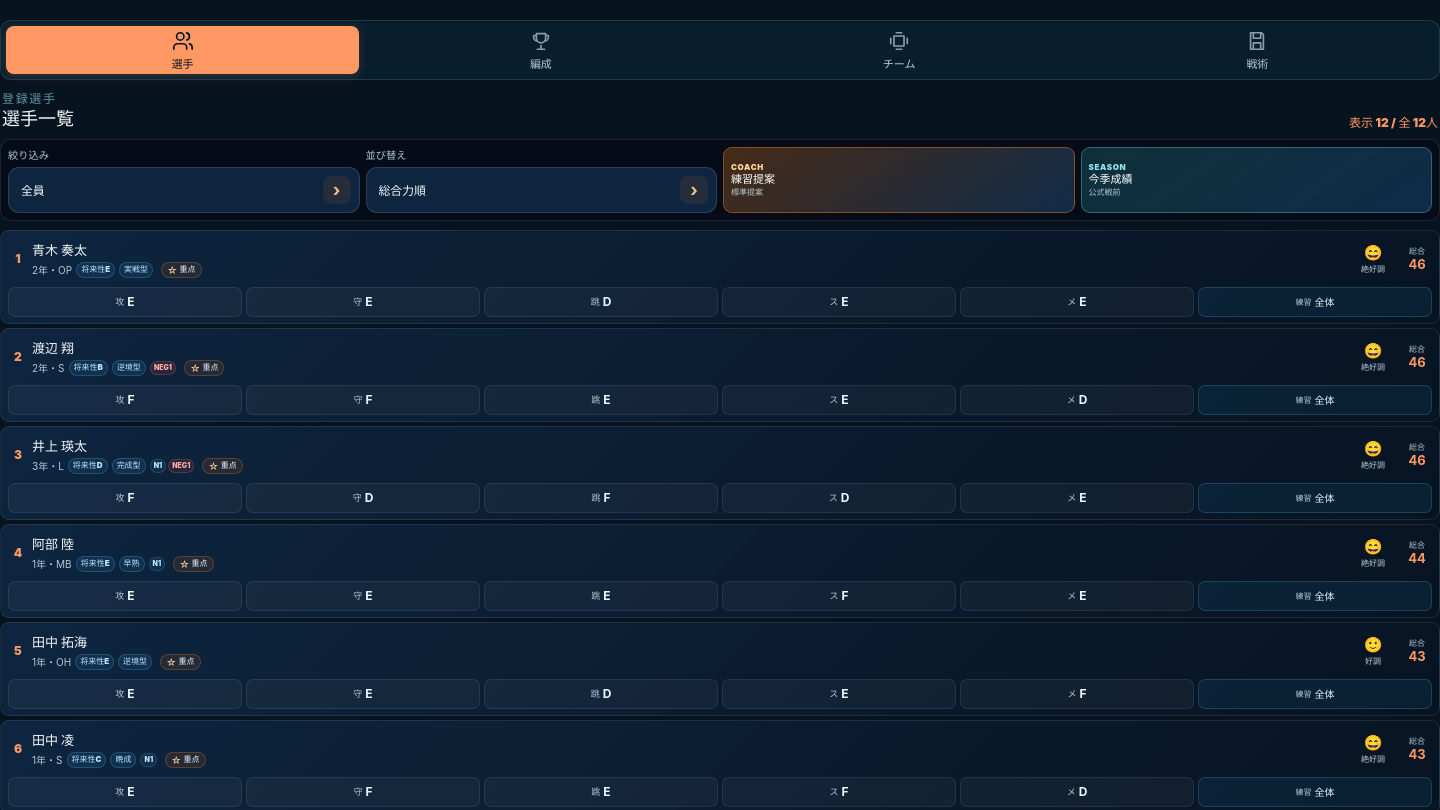
Test: PlayerHubScreen › splits player detail into ability, growth, and personality views
Expected: the heading "選手一覧" is shown, top-left (2, 108), bottom-right (74, 130)
What coordinates should you click on to do the following:
click the button "田中 拓海"
I would click on:
 (60, 641)
Its box is top-left (26, 627), bottom-right (93, 655).
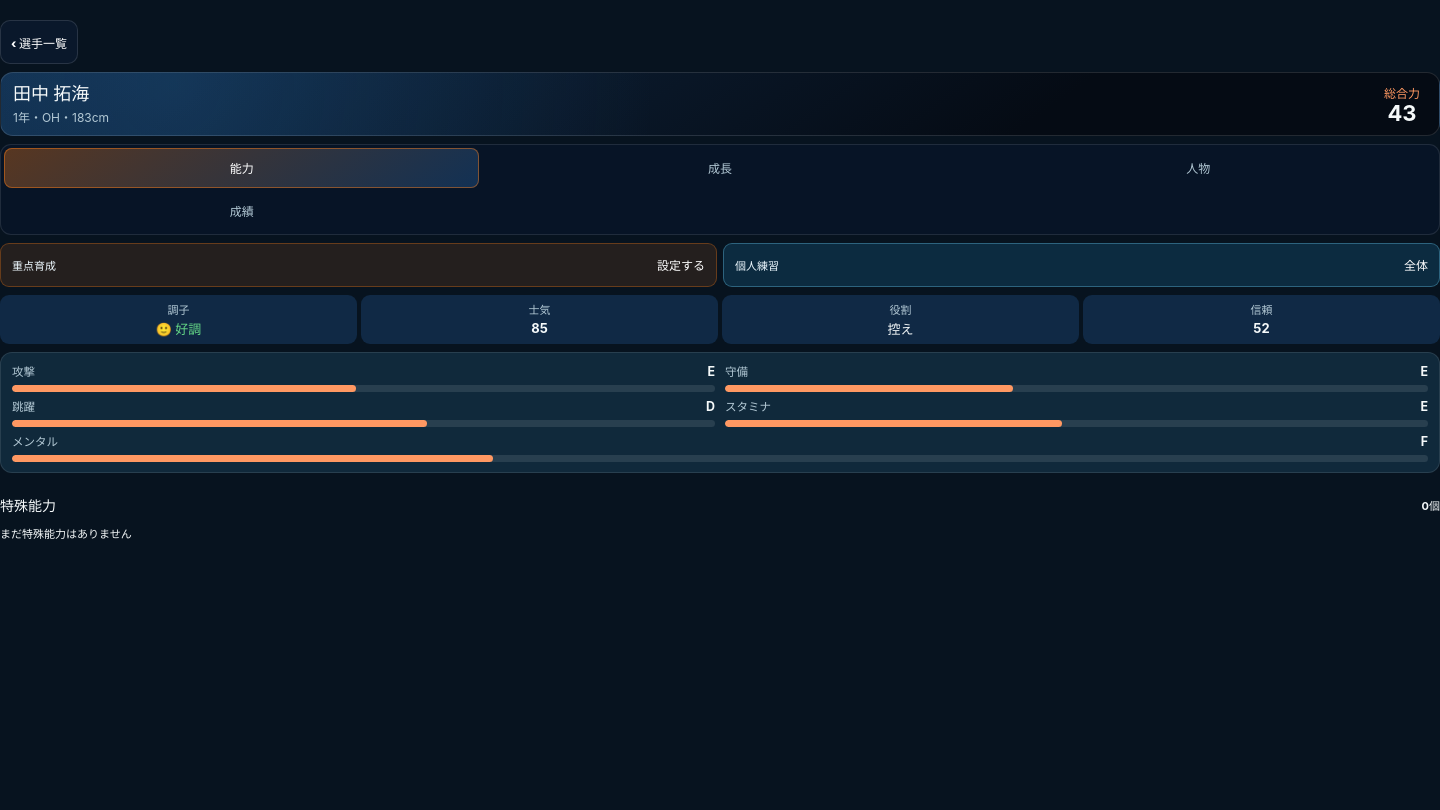
Expected: the text "総合力" is shown, top-left (1384, 86), bottom-right (1420, 101)
Expected: the element named "選手能力" is shown, top-left (0, 352), bottom-right (1439, 473)
What coordinates should you click on to do the following:
click the button "成長"
I would click on:
 (720, 168)
Its box is top-left (482, 148), bottom-right (958, 188).
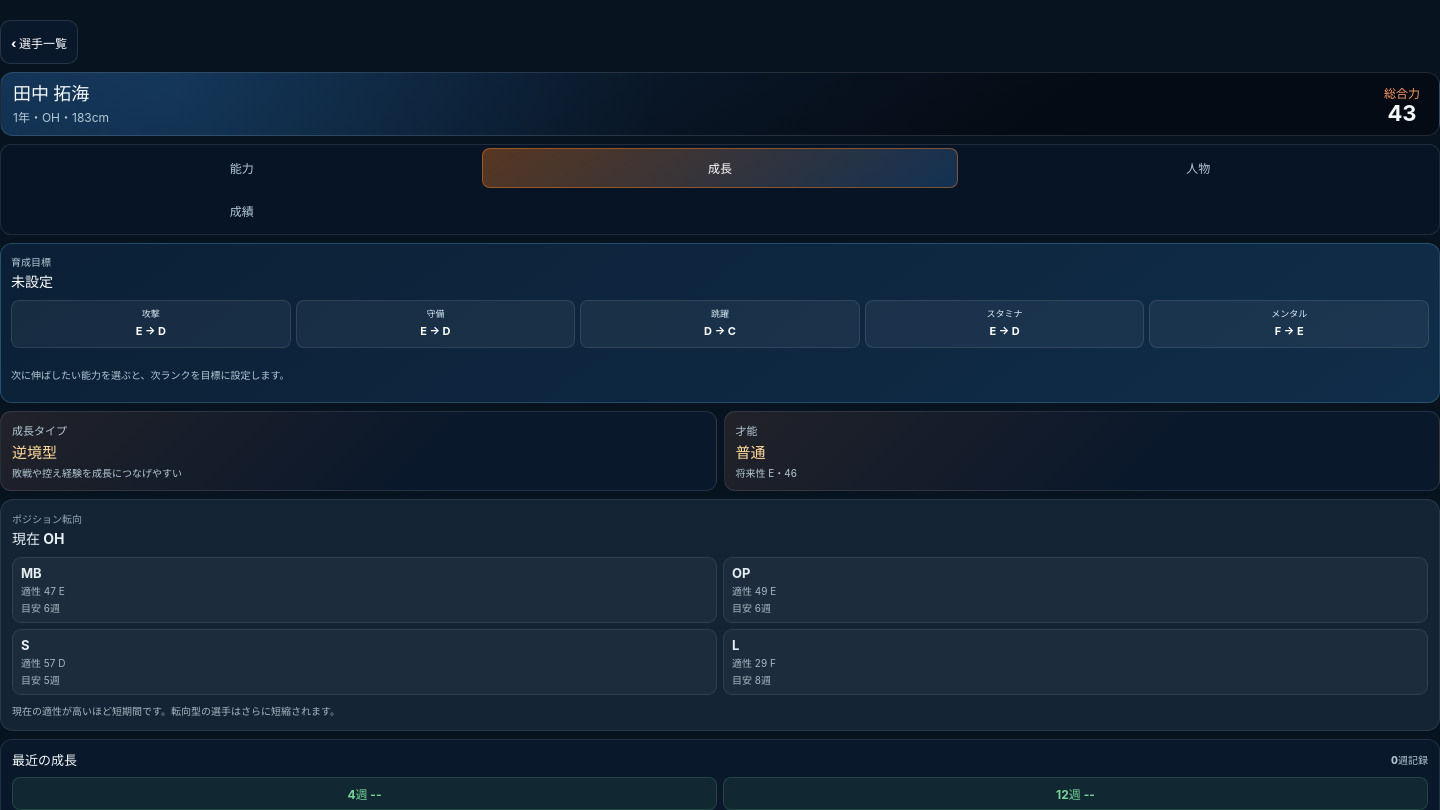
Expected: the text "成長タイプ" is shown, top-left (12, 424), bottom-right (67, 438)
Expected: the text "逆境型" is shown, top-left (12, 443), bottom-right (57, 462)
Expected: the text "才能" is shown, top-left (736, 424), bottom-right (758, 438)
What coordinates should you click on to do the following:
click the button "人物"
I would click on:
 (1198, 168)
Its box is top-left (961, 148), bottom-right (1436, 188).
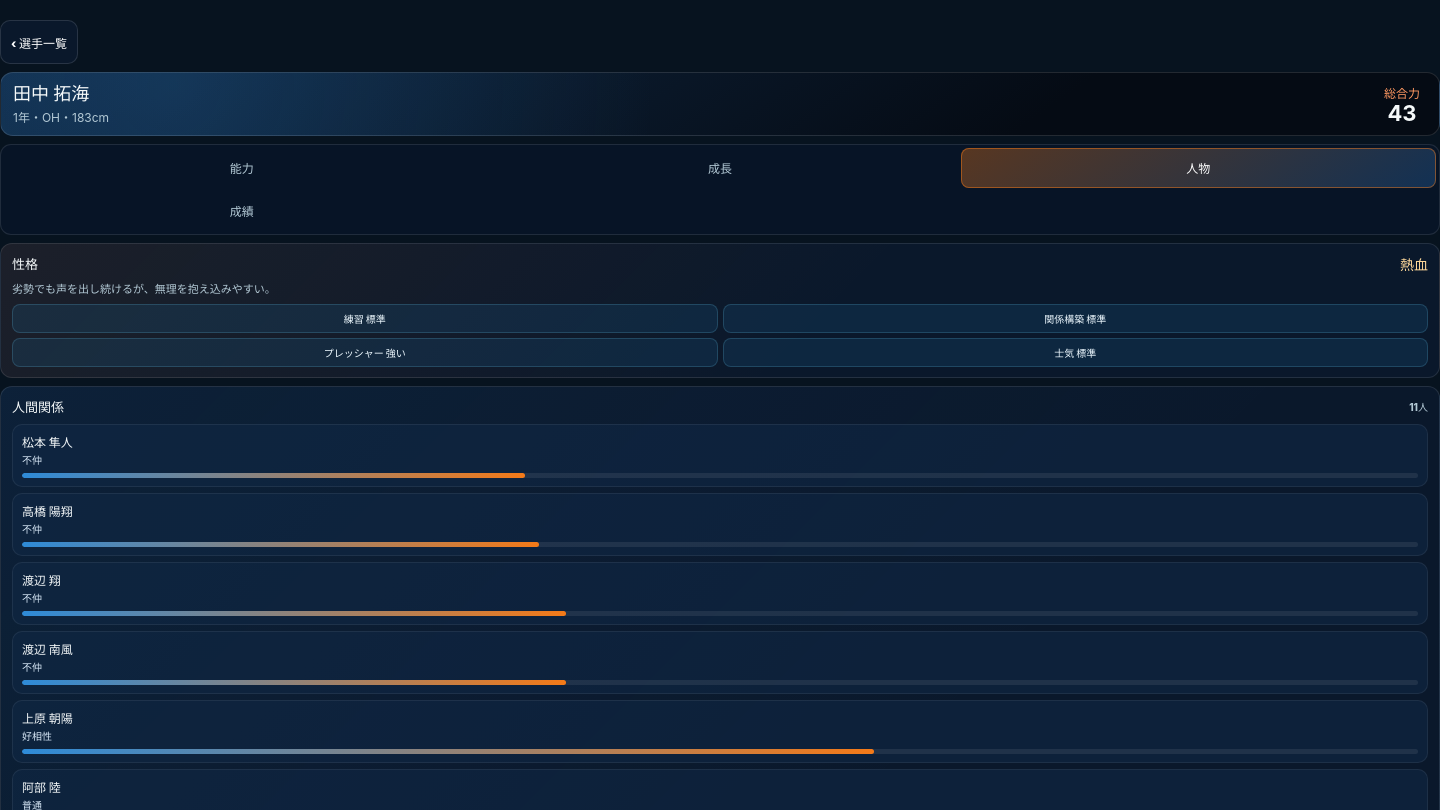
Expected: the element showing "田中 拓海 1年・OH・183cm 総合力 43" is shown, top-left (0, 72), bottom-right (1439, 136)
Expected: the element "性格" is shown, top-left (0, 243), bottom-right (1439, 378)
What coordinates should you click on to do the following:
click the button with aria-label "選手一覧へ戻る"
I would click on:
 (39, 42)
Its box is top-left (0, 20), bottom-right (78, 64).
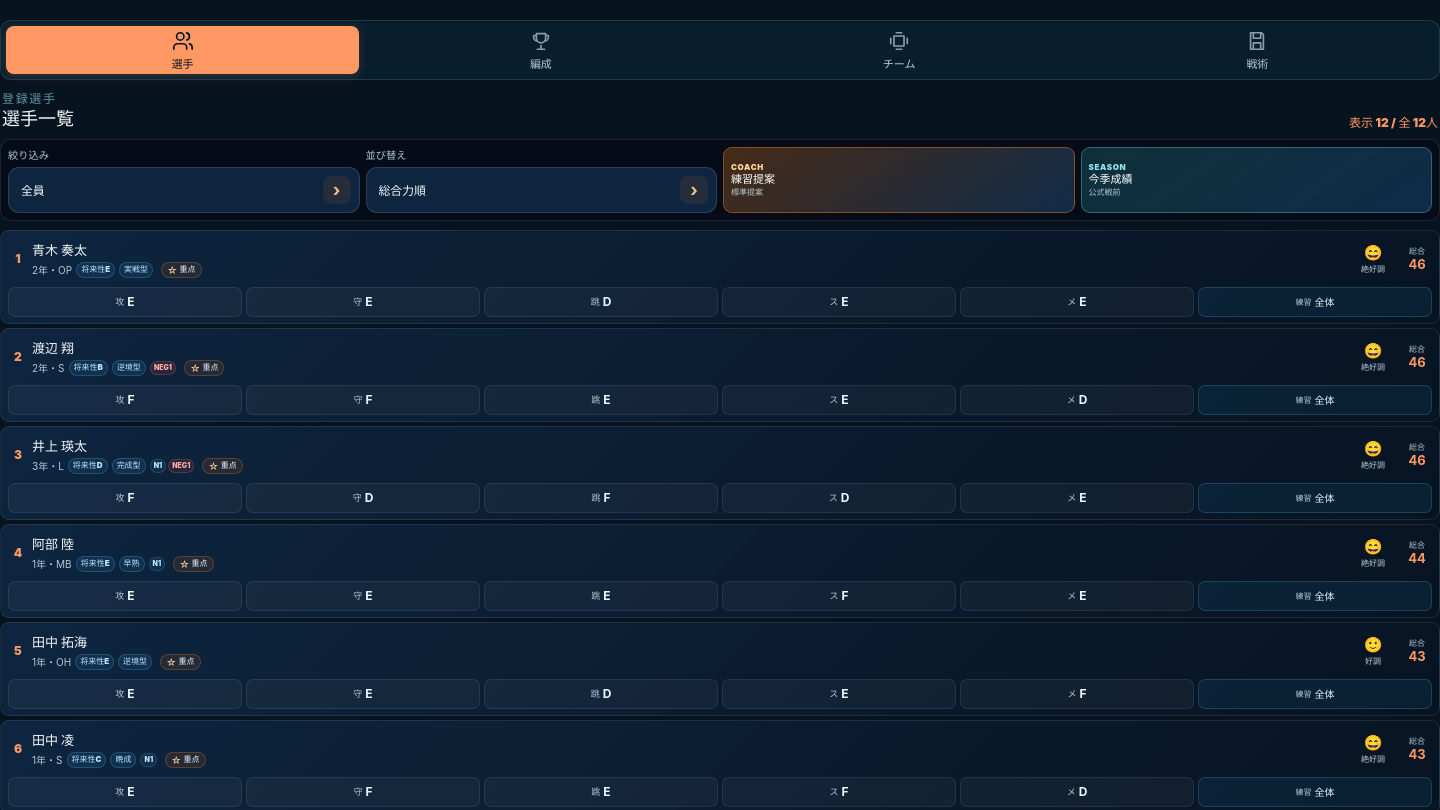
Expected: the heading "選手一覧" is shown, top-left (2, 108), bottom-right (74, 130)
